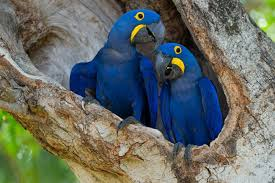guacamaya: (67, 9, 168, 130), (151, 21, 225, 156)
